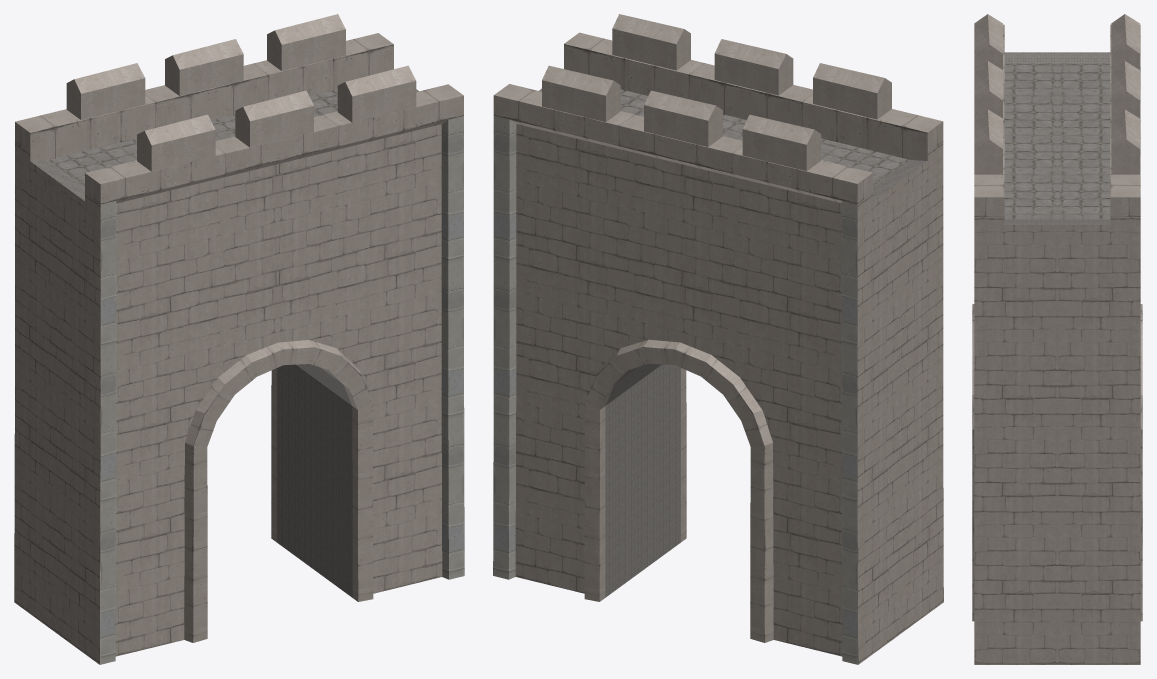
Rendered from Castle_A.fbx.
3 views of the same model, side by side, from view 1: azimuth 30°, elevation 25°; view 2: azimuth 150°, elevation 25°; view 3: azimuth 270°, elevation 25° (orthographic). The views are drawn at different scales.
Parts seen in each view (by area): view 1: Castle_A; view 2: Castle_A; view 3: Castle_A.
Boxes of the visible parts, x1,y1,x2,y2 form: Castle_A: (14,14,464,664); Castle_A: (493,14,943,664); Castle_A: (972,14,1142,664).
Bounding box in the file's own units: 2882 × 3898 × 1197.
Materials: 3 (3 with a texture image).
